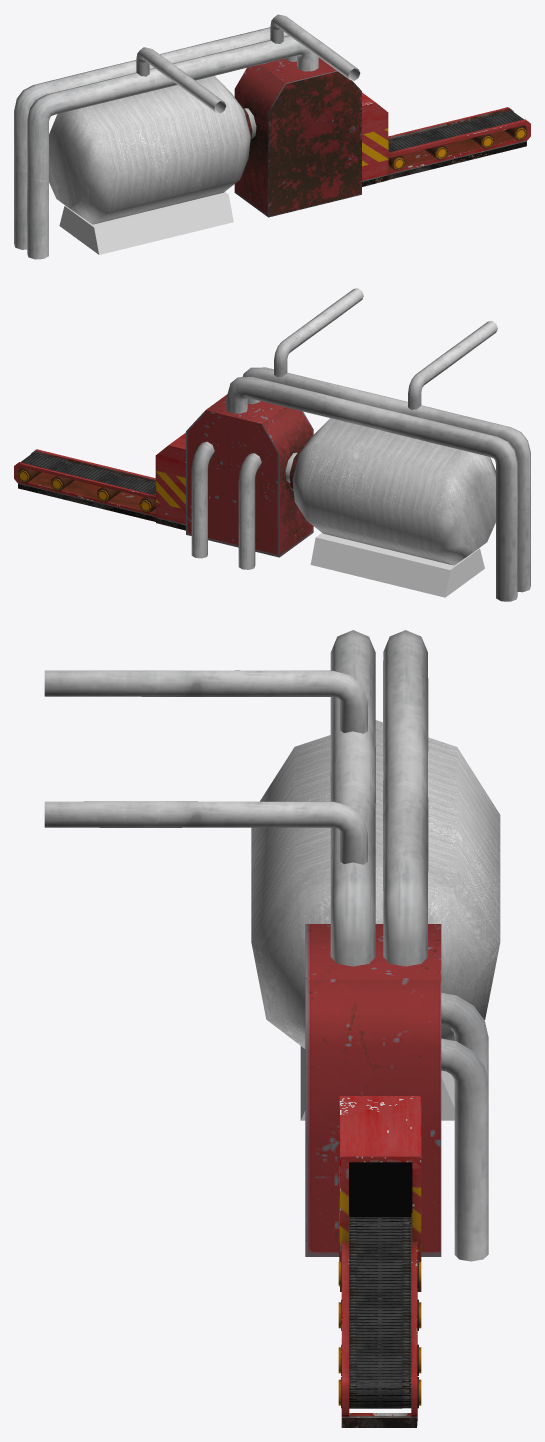
The model's file is OilFabric3.fbx.
3 views of the same model, one above another, from view 1: azimuth 30°, elevation 25°; view 2: azimuth 150°, elevation 25°; view 3: azimuth 270°, elevation 25° (orthographic). The views are drawn at different scales.
Parts seen in each view (by area): view 1: OutputMain, OutputBarrel, OutputPipes; view 2: OutputMain, OutputPipes, OutputBarrel; view 3: OutputMain, OutputPipes, OutputBarrel.
Part boxes in pixels (bbox=[...]): OutputMain: bbox=[59, 57, 530, 254]; OutputBarrel: bbox=[49, 76, 256, 224]; OutputPipes: bbox=[14, 14, 360, 259]; OutputMain: bbox=[14, 394, 484, 597]; OutputPipes: bbox=[191, 288, 530, 601]; OutputBarrel: bbox=[285, 418, 495, 565]; OutputMain: bbox=[300, 924, 454, 1427]; OutputPipes: bbox=[44, 630, 488, 1261]; OutputBarrel: bbox=[251, 720, 500, 1048].
Bounding box in the file's own units: 1.74 × 0.6714 × 0.6877.
